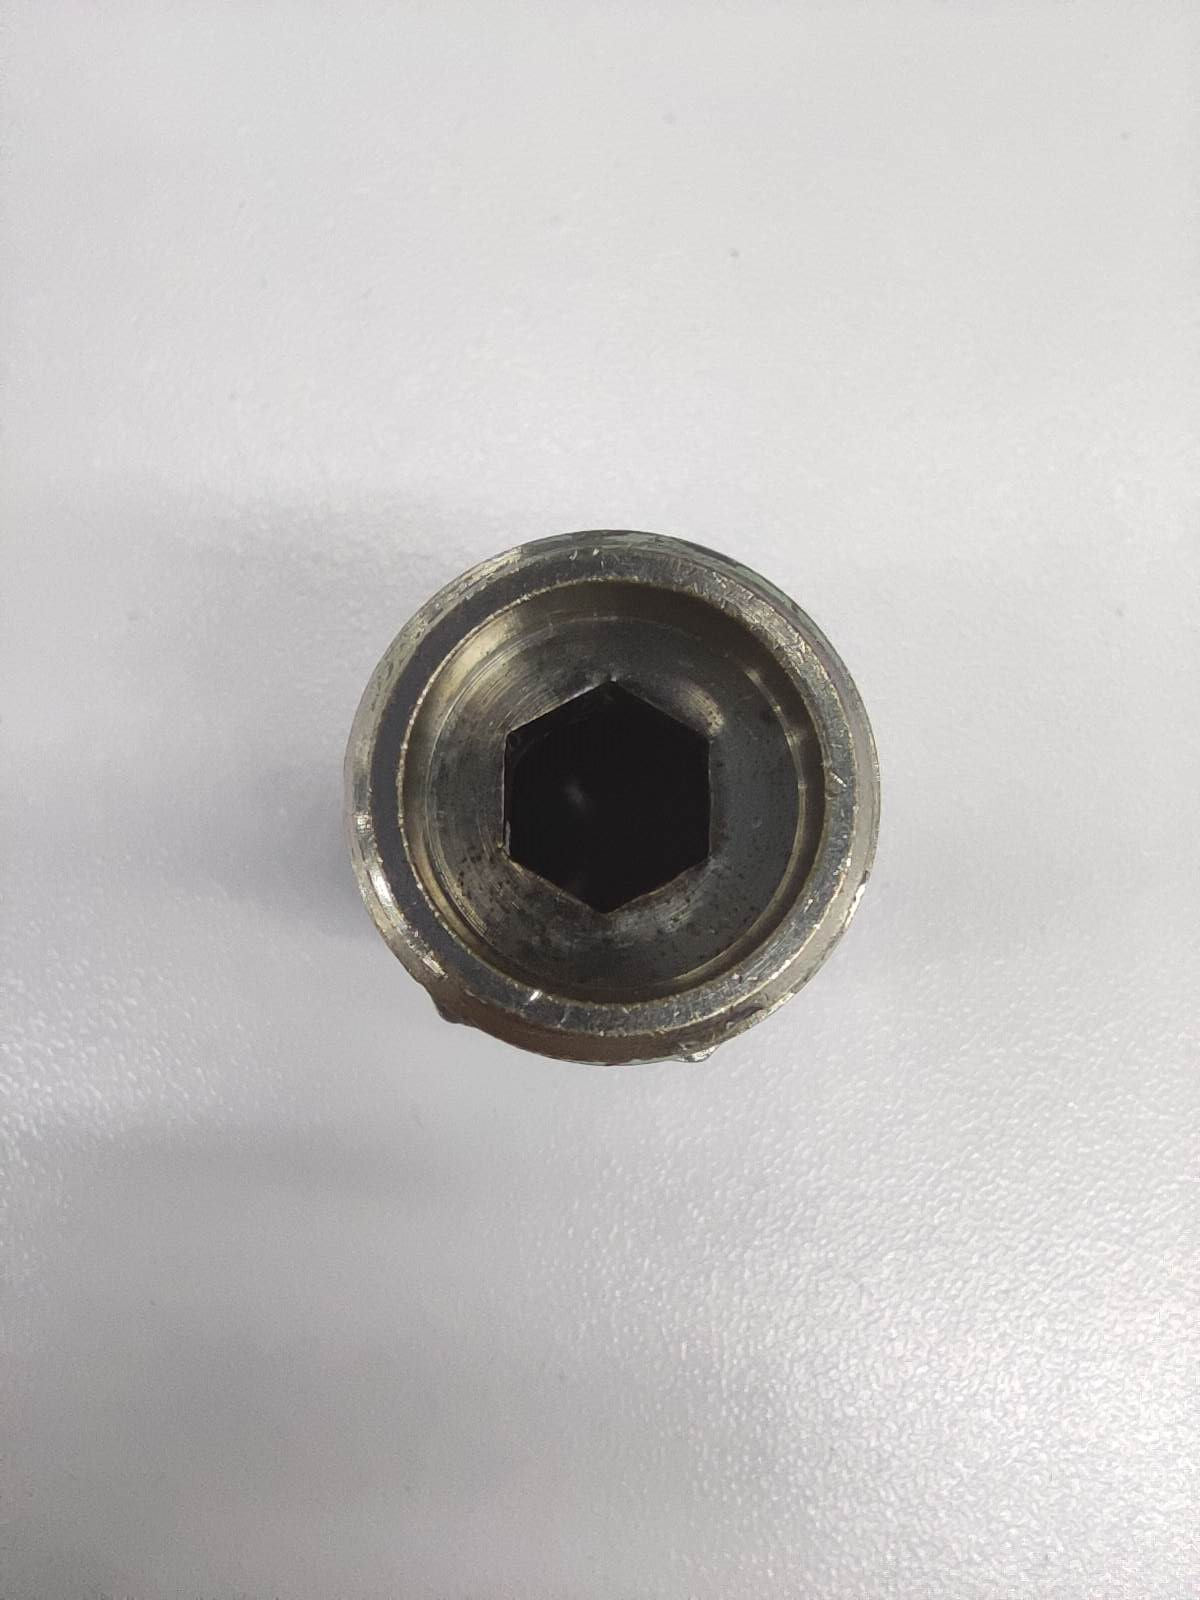水管接头银: (342, 528, 884, 1070)
